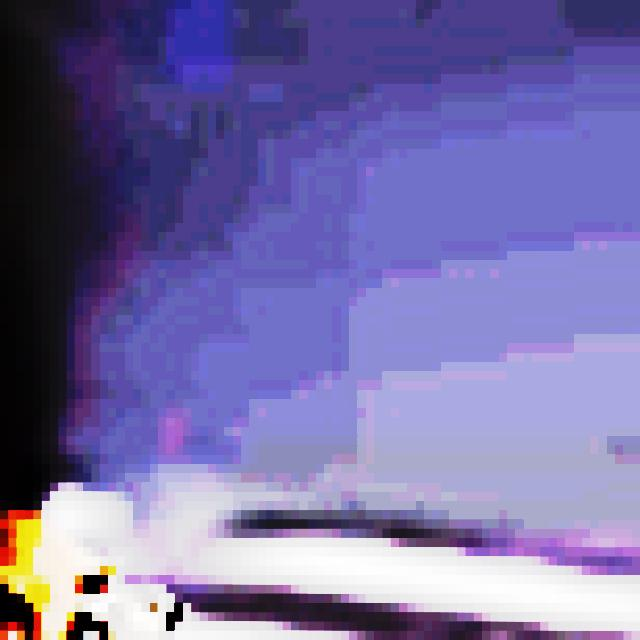arms: (0, 464, 191, 640)
